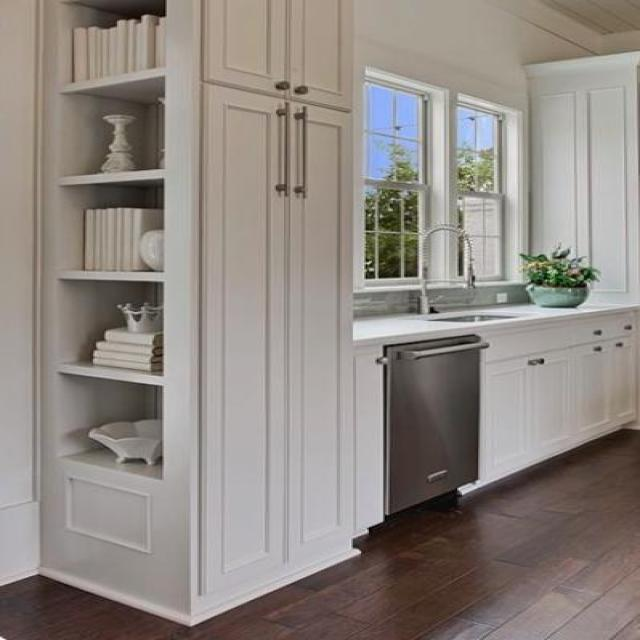dishwasher: (372, 326, 496, 526)
